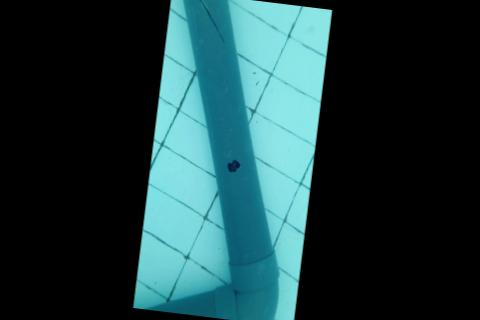kebocoran: (224, 158, 242, 176)
keretakan: (188, 0, 231, 45)
